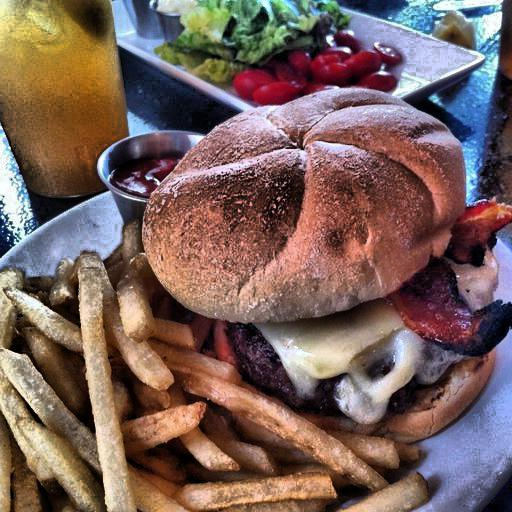burger: (152, 93, 485, 459)
